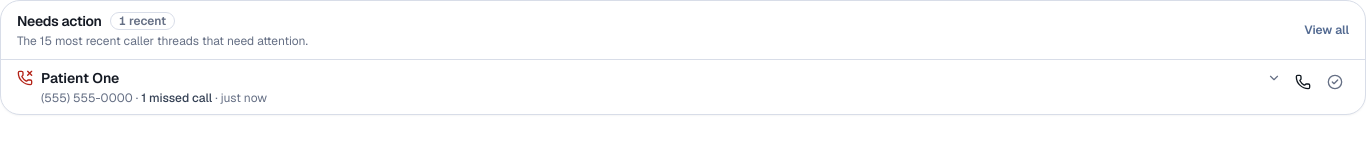
Scenario: FollowUpPreview › refreshes a caller thread when new activity makes resolution stale
The image size is (1366, 165).
Expected: the text "1 missed call" is shown, [141, 90, 212, 106]
Click the button named "Mark Patient One resolved" at (1335, 82), box [1321, 68, 1349, 96]
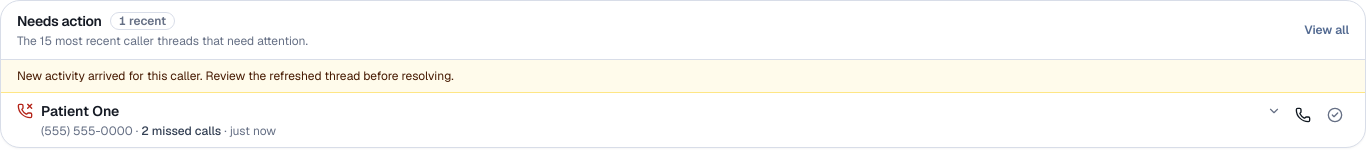
Result: the text "New activity arrived for this caller. Review the refreshed thread before resolving." is shown at [17, 68, 454, 84]
Result: the text "2 missed calls" is shown at [141, 123, 221, 139]
